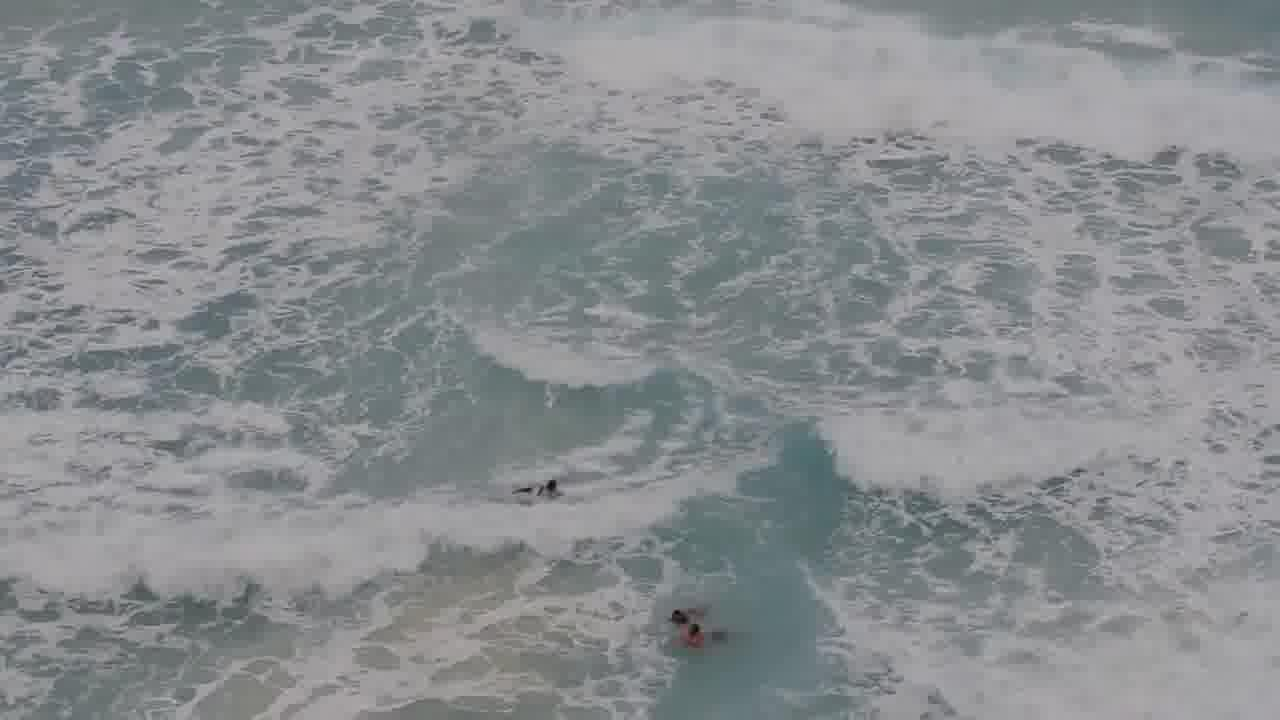swimmer: (534, 460, 572, 511), (682, 626, 714, 645), (661, 598, 685, 621)
